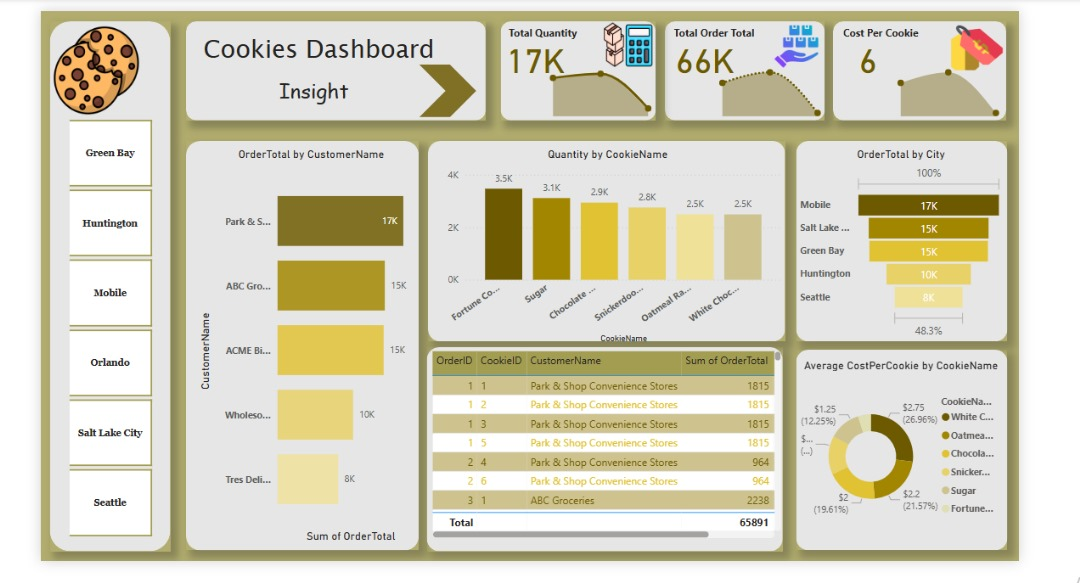

The page's visual inventory and layout, read from the dashboard file:
{"tool":"powerbi","page":{"name":"Page 1","canvas":[1280,720],"ordinal":0},"visuals":[{"type":"shape","box":[10.9,12.5,157.9,694],"z":0},{"type":"shape","box":[190.7,12.5,392.3,129.7],"z":1000},{"type":"shape","box":[190.7,170.4,304.8,536.1],"z":2000},{"type":"shape","box":[815.9,12.5,209.4,129.7],"z":3000},{"type":"shape","box":[601.8,12.5,203.2,129.7],"z":4000},{"type":"shape","box":[1036.3,12.5,226.6,129.7],"z":5000},{"type":"shape","box":[506.4,170.4,467.3,262.6],"z":6000},{"type":"shape","box":[504.8,439.2,465.8,267.3],"z":7000},{"type":"shape","box":[987.8,170.4,276.6,262.6],"z":8000},{"type":"shape","box":[987.8,443.9,276.6,262.6],"z":9000},{"type":"barChart","title":"OrderTotal by CustomerName","fields":{"Y":["Sum(Orders.OrderTotal)"],"Category":["Customers.CustomerName"]},"box":[201.6,178.2,304.8,522],"z":10000},{"type":"columnChart","title":" Quantity by CookieName","fields":{"Category":["Product.CookieName"],"Y":["Sum(Order_Product.Quantity)"]},"box":[509.5,178.2,464.2,261],"z":11000},{"type":"card","fields":{"Values":["Sum(Order_Product.Quantity)"]},"box":[601.8,25,90.7,70.3],"z":12000},{"type":"card","fields":{"Values":["Sum(Orders.OrderTotal)"]},"box":[823.7,25,90.7,70.3],"z":13000},{"type":"card","fields":{"Values":["CountNonNull(Product.CostPerCookie)"]},"box":[1036.3,25,90.7,70.3],"z":14000},{"type":"tableEx","fields":{"Values":["Orders.OrderID","Order_Product.CookieID","Customers.CustomerName","Sum(Orders.OrderTotal)","Sum(Order_Product.Quantity)"]},"box":[506.4,439.2,467.3,254.8],"z":15000},{"type":"funnel","title":" OrderTotal by City","fields":{"Category":["Customers.City"],"Y":["Sum(Orders.OrderTotal)"]},"box":[987.8,178.2,275.1,254.8],"z":16000},{"type":"donutChart","title":"Average CostPerCookie by CookieName","fields":{"Category":["Product.CookieName"],"Y":["Avg(Product.CostPerCookie)"]},"box":[987.8,454.8,275.1,239.1],"z":17000},{"type":"areaChart","fields":{"Category":["Orders.OrderDate.Variation.Date Hierarchy.Month"],"Y":["Sum(Order_Product.Quantity)"]},"box":[639.3,61,184.4,81.3],"z":18000},{"type":"areaChart","fields":{"Category":["Orders.OrderDate.Variation.Date Hierarchy.Month"],"Y":["Sum(Orders.OrderTotal)"]},"box":[861.2,61,184.4,81.3],"z":19000},{"type":"textbox","box":[601.8,14.1,114.1,35.9],"z":20000},{"type":"textbox","box":[823.7,14.1,125,29.7],"z":21000},{"type":"areaChart","fields":{"Category":["Orders.OrderDate.Variation.Date Hierarchy.Month"],"Y":["Sum(Orders.OrderTotal)"]},"box":[1095.7,61,184.4,81.3],"z":22000},{"type":"textbox","box":[1045.6,12.5,120.4,28.1],"z":23000},{"type":"textbox","box":[190.7,20.3,357.9,59.4],"z":24000},{"type":"textbox","box":[306.3,79.7,126.6,54.7],"z":25000},{"type":"shape","box":[495.5,70.3,75,68.8],"z":26000},{"type":"slicer","fields":{"Values":["Customers.City"]},"box":[10.9,134.4,157.9,559.5],"z":27000},{"type":"image","box":[953.4,10.9,70.3,68.8],"z":28000},{"type":"image","box":[731.5,1.6,73.5,84.4],"z":29000},{"type":"image","box":[10.9,14.1,121.9,128.2],"z":30000},{"type":"image","box":[1184.7,14.1,79.7,68.8],"z":31000}]}

Visuals, with their boxes in screenshot pixels (x1, y1, x2, y2):
shape: 45/18/166/552
shape: 183/18/485/118
shape: 183/140/418/552
shape: 664/18/825/118
shape: 499/18/656/118
shape: 834/18/1008/118
shape: 426/140/785/341
shape: 425/346/783/552
shape: 796/140/1009/341
shape: 796/350/1009/552
"OrderTotal by CustomerName" barChart: 192/146/426/547
" Quantity by CookieName" columnChart: 428/146/785/346
card - Sum(Order_Product.Quantity): 499/28/569/82
card - Sum(Orders.OrderTotal): 670/28/740/82
card - CountNonNull(Product.CostPerCookie): 834/28/903/82
tableEx - Orders.OrderID x Order_Product.CookieID: 426/346/785/542
" OrderTotal by City" funnel: 796/146/1008/341
"Average CostPerCookie by CookieName" donutChart: 796/358/1008/542
areaChart - Orders.OrderDate.Variation.Date Hierarchy.Month x Sum(Order_Product.Quantity): 528/55/670/118
areaChart - Orders.OrderDate.Variation.Date Hierarchy.Month x Sum(Orders.OrderTotal): 699/55/841/118
textbox: 499/19/587/47
textbox: 670/19/766/42
areaChart - Orders.OrderDate.Variation.Date Hierarchy.Month x Sum(Orders.OrderTotal): 879/55/1021/118
textbox: 841/18/933/40
textbox: 183/24/459/70
textbox: 272/70/370/112
shape: 418/63/475/115
slicer - Customers.City: 45/112/166/542
image: 770/17/824/70
image: 599/10/656/75
image: 45/19/139/118
image: 948/19/1009/72
